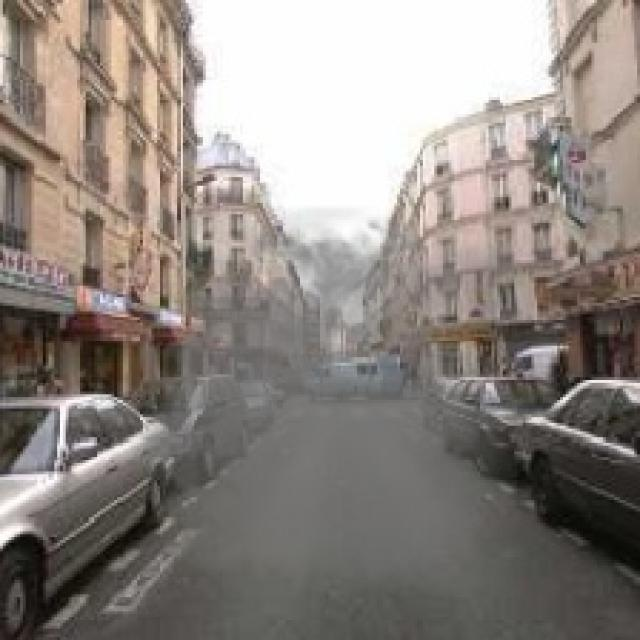smoke: (117, 206, 517, 597)
